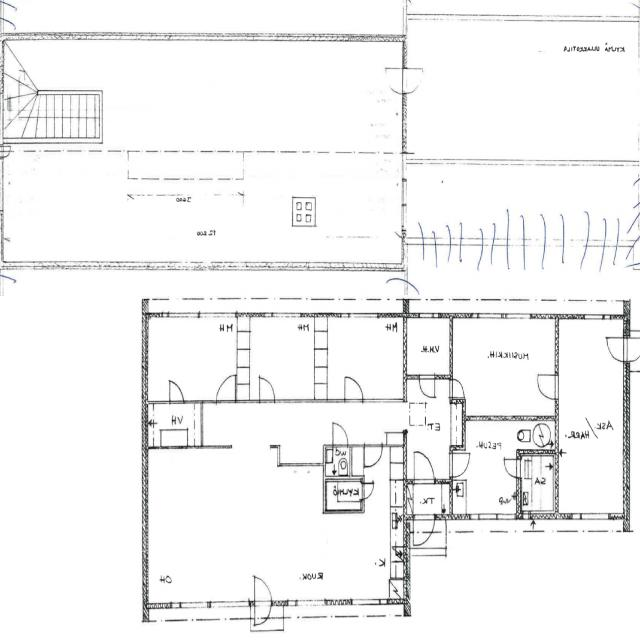door: (414, 514, 435, 548), (414, 452, 435, 484), (402, 68, 427, 93), (383, 68, 407, 93), (606, 338, 630, 361), (217, 374, 236, 402), (537, 374, 559, 398), (345, 376, 363, 402), (450, 453, 470, 476), (255, 579, 271, 606), (255, 601, 271, 628), (365, 445, 382, 470), (623, 338, 640, 361), (419, 375, 435, 399), (502, 458, 520, 478), (260, 379, 275, 402), (333, 425, 348, 448), (170, 381, 184, 402), (450, 379, 466, 397), (362, 483, 377, 499)
